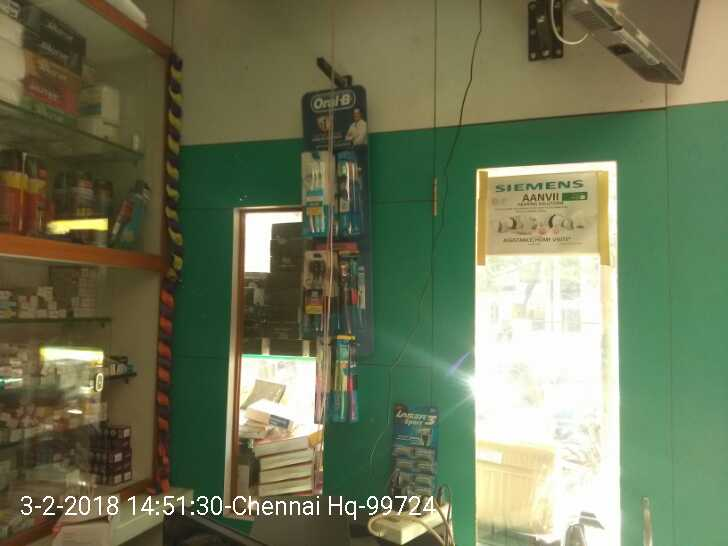oralb: (299, 150, 332, 235), (302, 252, 330, 336), (334, 152, 358, 232)
